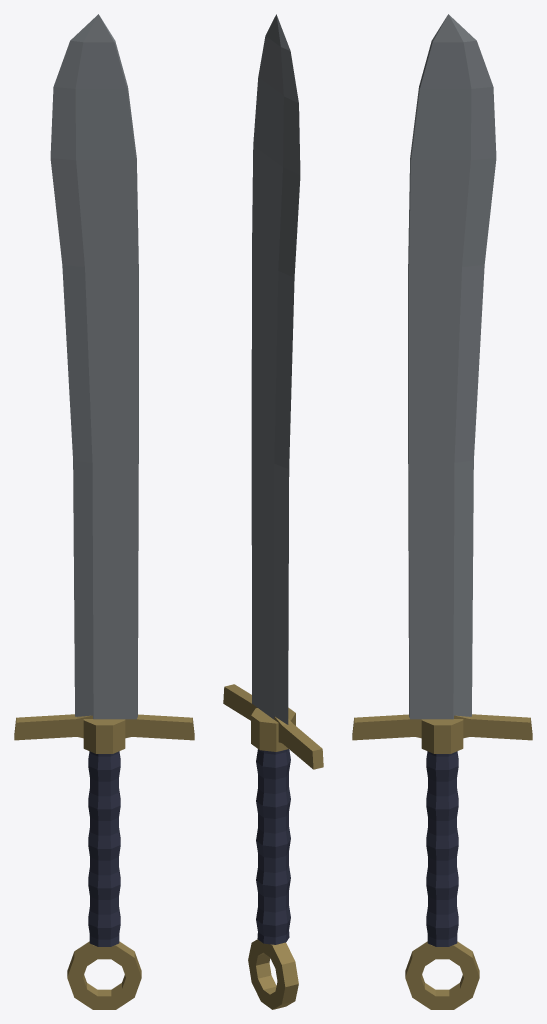
The model's file is WP_Falchion_04.glb.
The picture shows the model from 3 angles, left to right: view 1: azimuth 90°, elevation 25°; view 2: azimuth 210°, elevation 25°; view 3: azimuth 270°, elevation 25°; orthographic projection.
Visible parts, largest first — view 1: WP_Falchion_04; view 2: WP_Falchion_04; view 3: WP_Falchion_04.
Boxes of the visible parts, <box> form: WP_Falchion_04: <box>14,14,194,1009</box>; WP_Falchion_04: <box>223,14,323,1009</box>; WP_Falchion_04: <box>352,14,532,1009</box>.
Size of the model in its own units: 0.0425 by 1.12 by 0.184.
